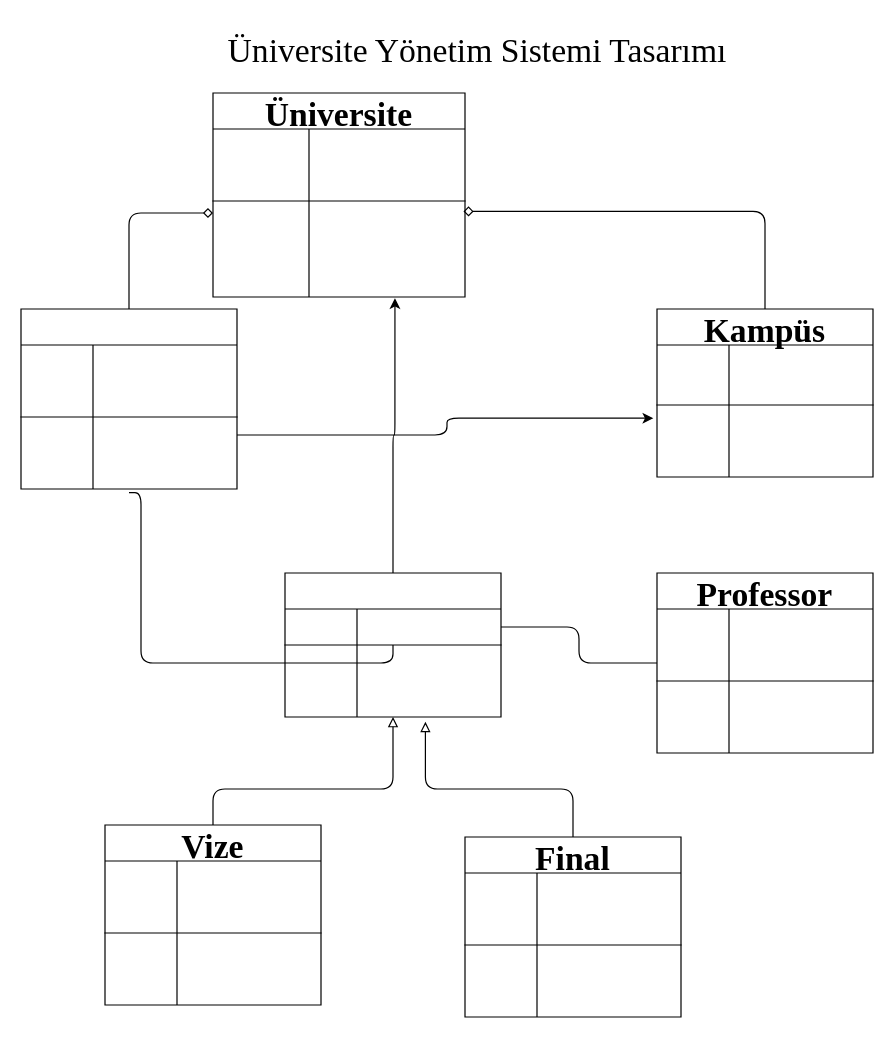
This 894x1038 diagram has some shape labels left out. The shapes that lost their labels are listed below. From the top down, each one's centre as x and y in pixels, then its label:
At (x=128, y=398): "Öğrenci".
At (x=392, y=644): "Sınavlar".
